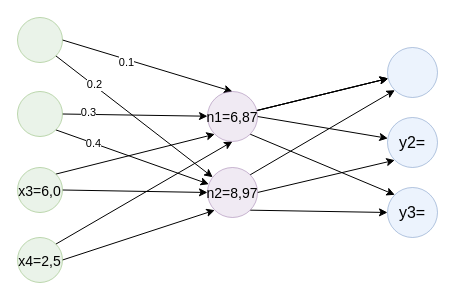
Some shapes in this 455 by 300 pixel diagram are drawn without their labels. Here are the shapes that lost their labels. From the top down, the centre of each, then its label:
At (39,39): "x1=6,3".
At (412,72): "y1=".
At (39,113): "x2=3,3".
